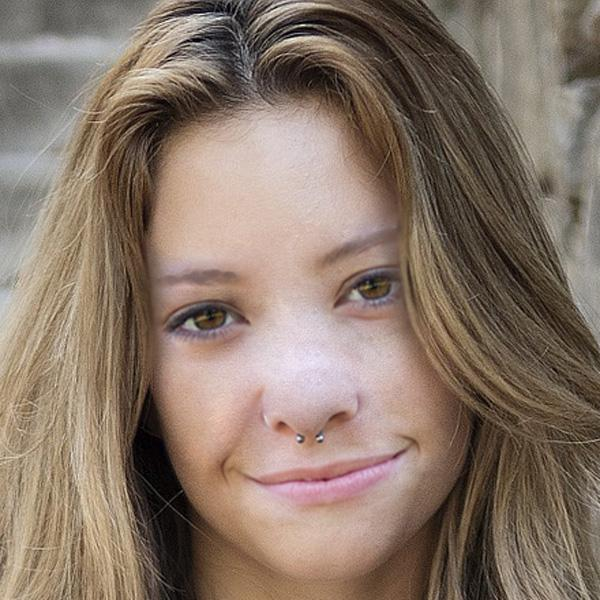Eyes: (153, 290, 256, 356), (324, 255, 425, 320)
